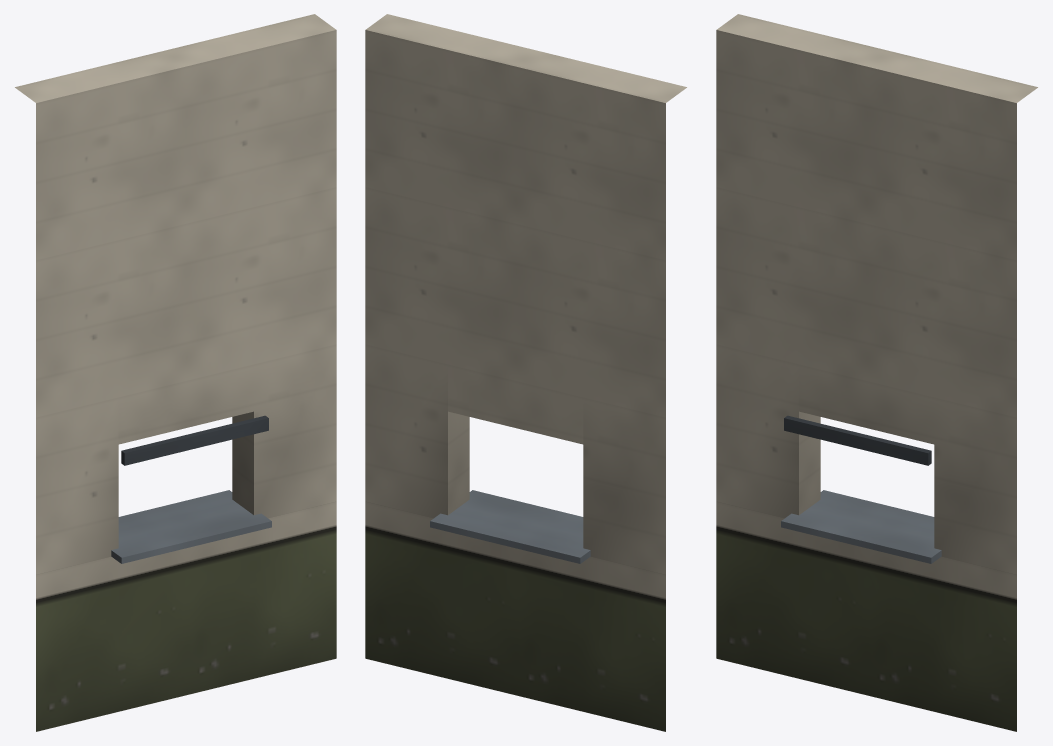
The model's file is wall_bunker_hatch.glb.
3 renders of one model, left to right at view 1: azimuth 30°, elevation 25°; view 2: azimuth 150°, elevation 25°; view 3: azimuth 330°, elevation 25°, orthographic.
Parts seen in each view (by area): view 1: wall_bunker_hatch; view 2: wall_bunker_hatch; view 3: wall_bunker_hatch.
Part boxes in pixels (x1,y1,x2,y2): wall_bunker_hatch: [15, 14, 336, 731]; wall_bunker_hatch: [365, 14, 686, 731]; wall_bunker_hatch: [716, 14, 1037, 731].
Bounding box in the file's own units: 2 × 4 × 0.49.
1 material, 1 textured.
